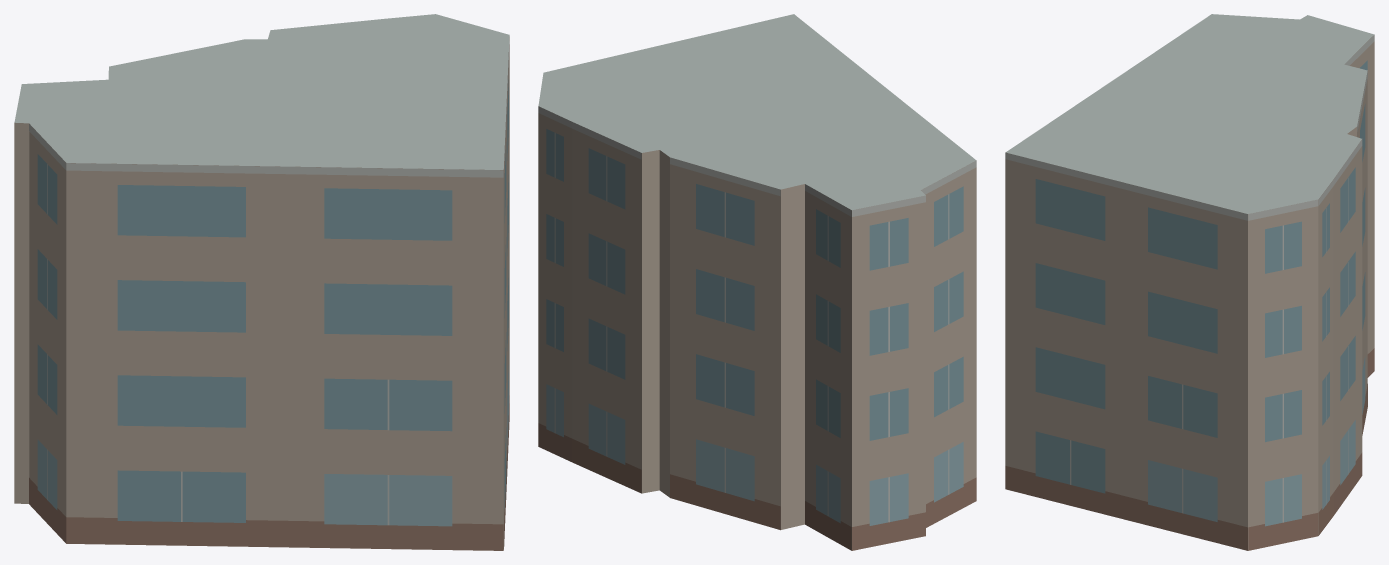
File: survey-upis-32847844.glb
The picture shows the model from 3 angles, left to right: view 1: azimuth 30°, elevation 25°; view 2: azimuth 150°, elevation 25°; view 3: azimuth 270°, elevation 25°; orthographic projection. The views are drawn at different scales.
Visible parts, largest first — view 1: survey-upis-32847844.tmp; view 2: survey-upis-32847844.tmp; view 3: survey-upis-32847844.tmp.
Part boxes in pixels (x1,y1,x2,y2): survey-upis-32847844.tmp: [14, 14, 509, 550]; survey-upis-32847844.tmp: [538, 14, 976, 550]; survey-upis-32847844.tmp: [1005, 14, 1374, 550].
Size of the model in its own units: 15.56 by 12.2 by 12.13.
